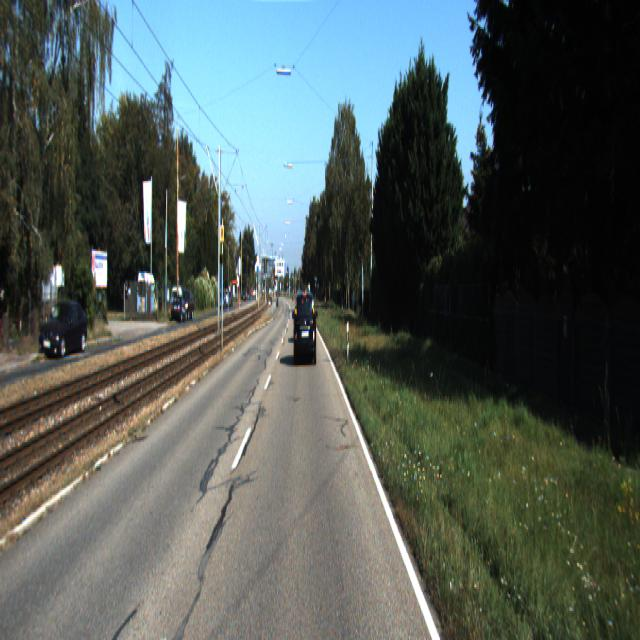Car: (41, 299, 87, 361), (294, 290, 317, 367), (136, 271, 160, 320), (171, 294, 189, 324)
